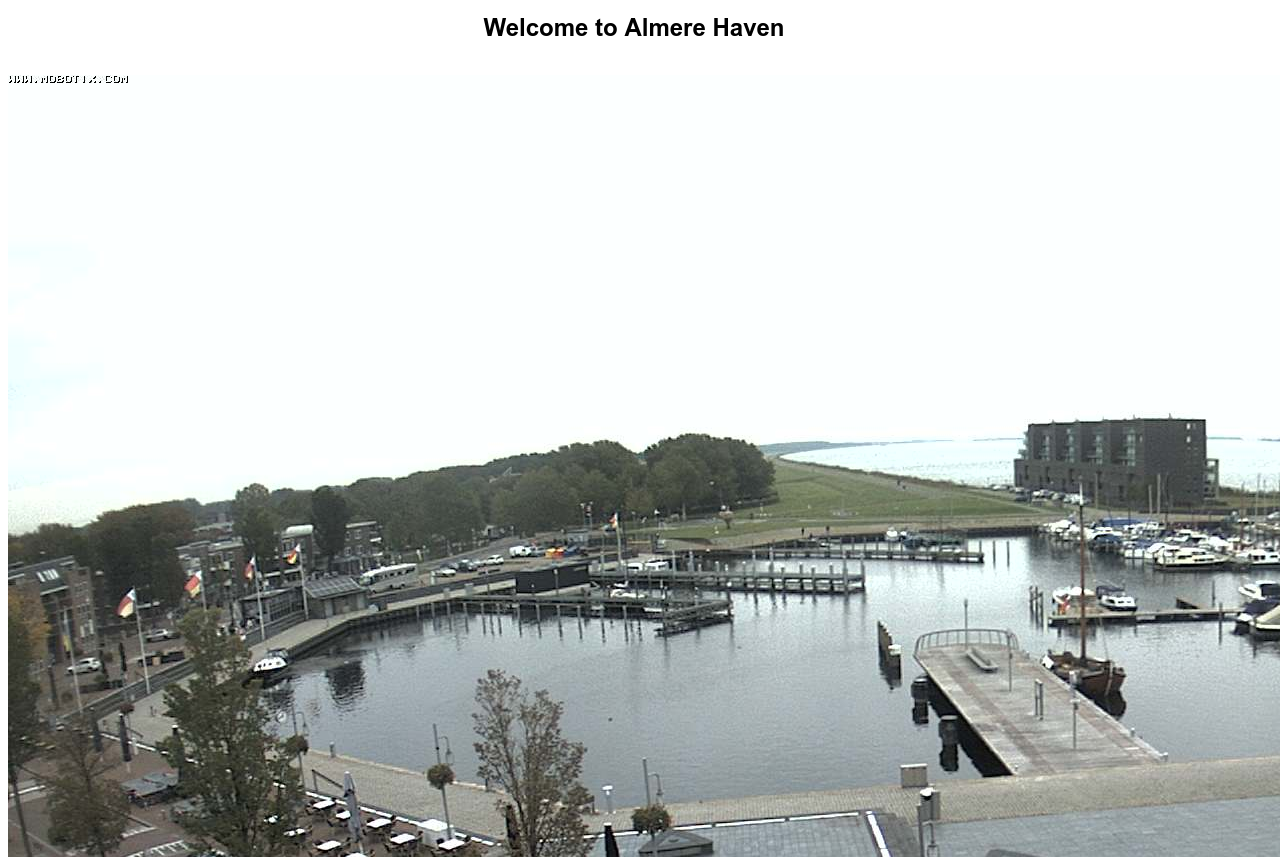maybe: (117, 589, 139, 620), (184, 569, 206, 599), (286, 544, 302, 565)
